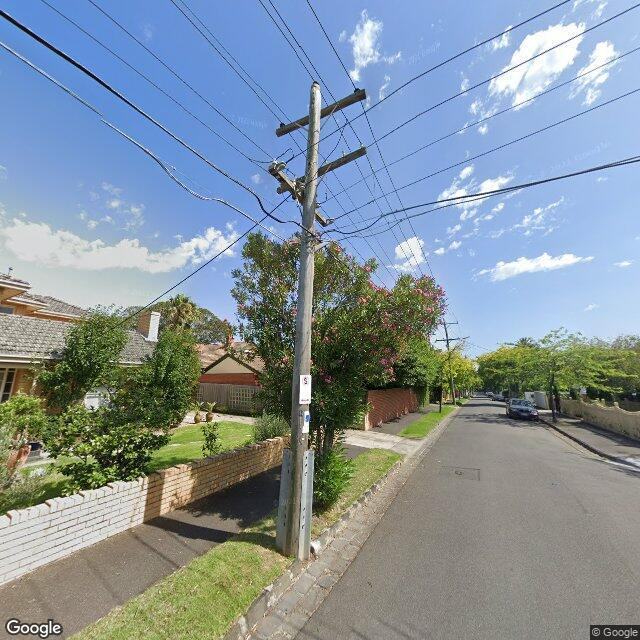HV-transmission: (276, 80, 367, 137)
crossarm: (277, 143, 369, 194), (276, 90, 368, 138), (270, 160, 336, 226), (435, 338, 461, 342), (436, 322, 459, 325)
timber-pole: (280, 88, 324, 559), (444, 318, 456, 404)
